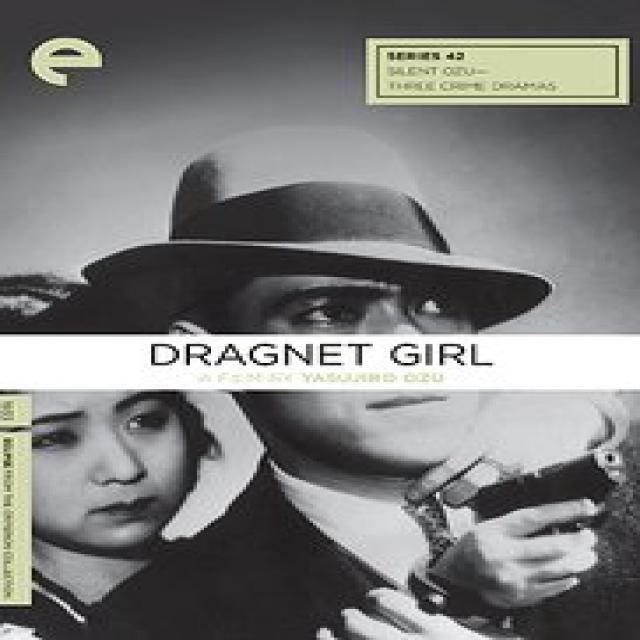movie-judul: (106, 333, 543, 389)
picture: (16, 26, 624, 634)
